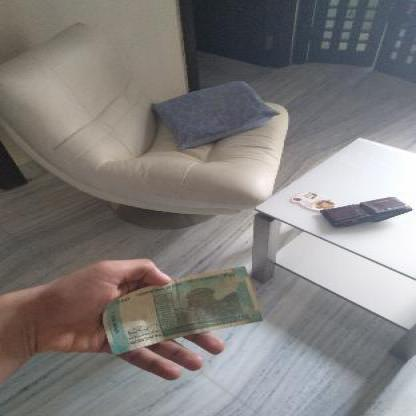New50Back: (101, 266, 254, 348)
